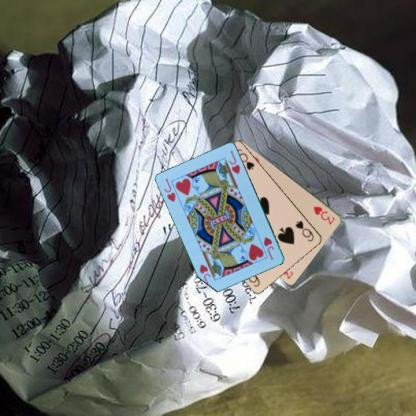3h: (311, 203, 336, 226)
6s: (293, 218, 315, 242)
Jh: (162, 176, 177, 203), (261, 235, 276, 261)
